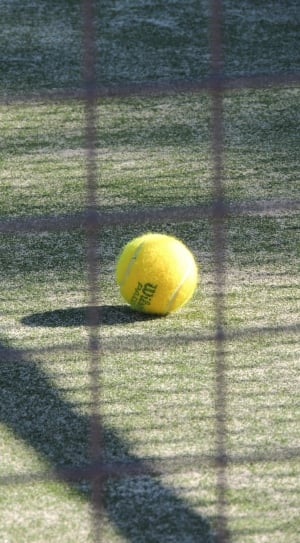tennis_ball: (117, 234, 197, 315)
